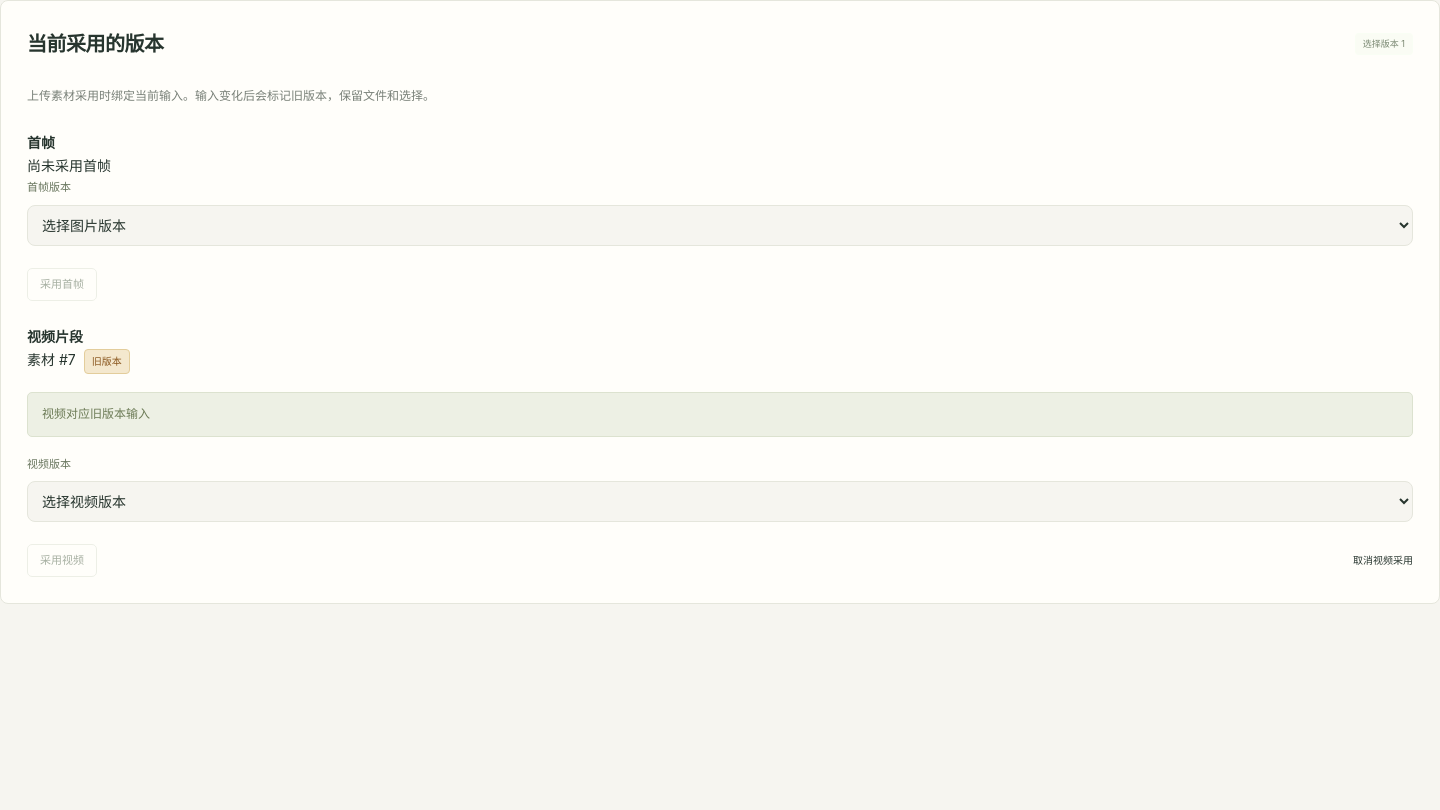
Test: 采用上传首帧须明确确认，旧视频不会被清除
Expected: the text "视频对应旧版本输入" is shown, 27,392 -> 1413,437
Select "原创角色 · 上传 #4" in the dropdown labelled "首帧版本". click: [720, 225]
box: 27,205 -> 1413,246
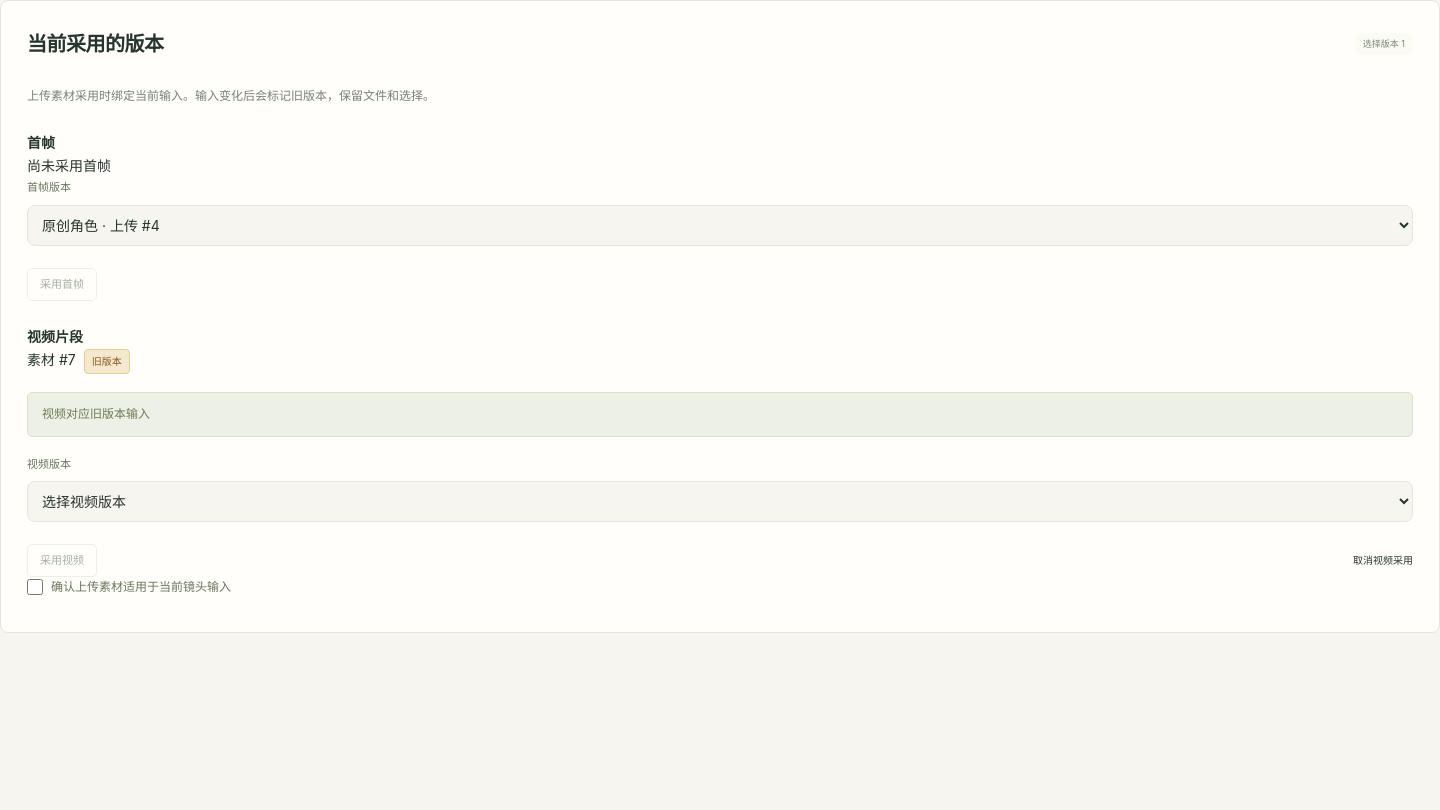
Expected: the button "采用首帧" is disabled, 27,268 -> 97,301
Click the checkbox labelled "确认上传素材适用于当前镜头输入". click: [35, 587]
box: 27,579 -> 43,595
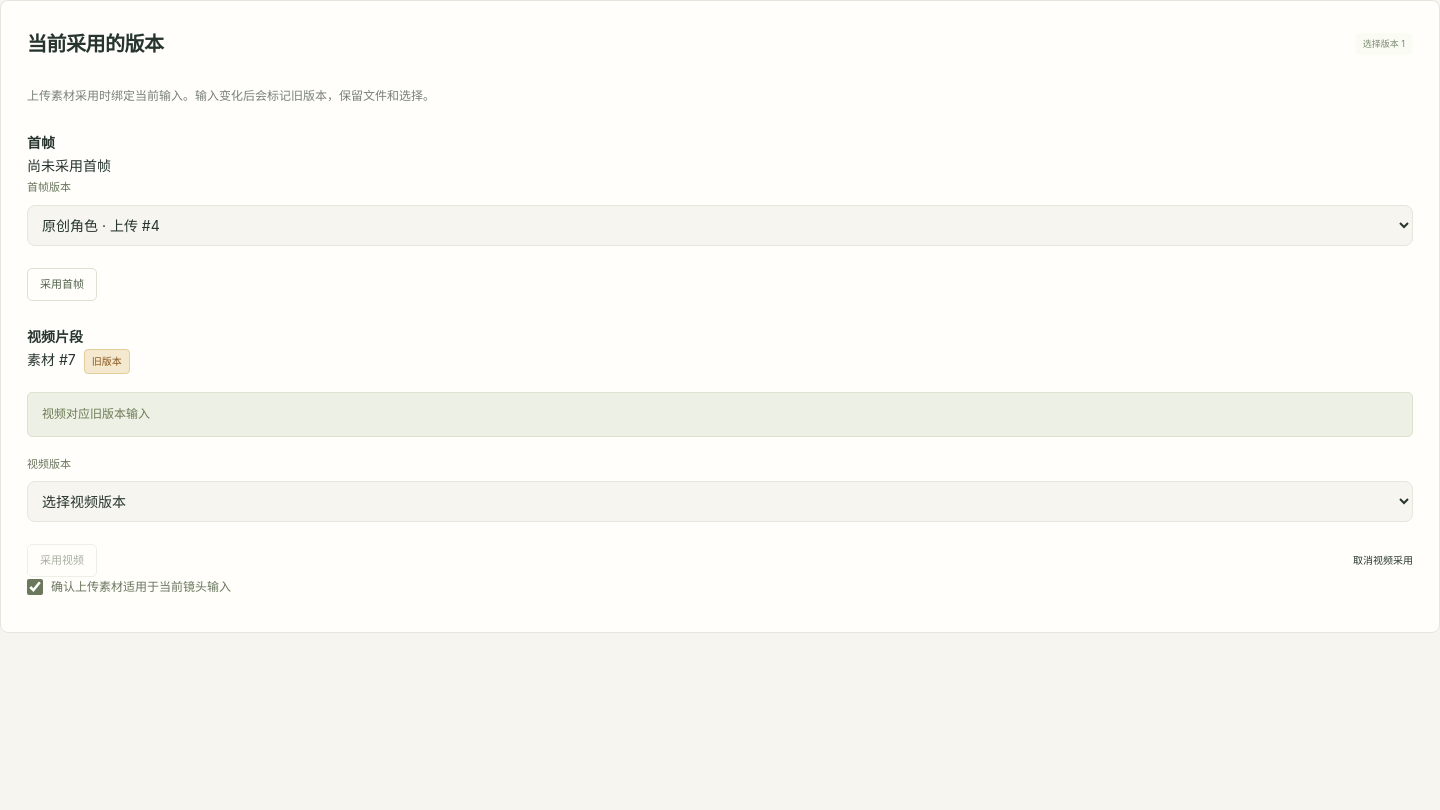
Click the button "采用首帧". click: [62, 284]
box: 27,268 -> 97,301
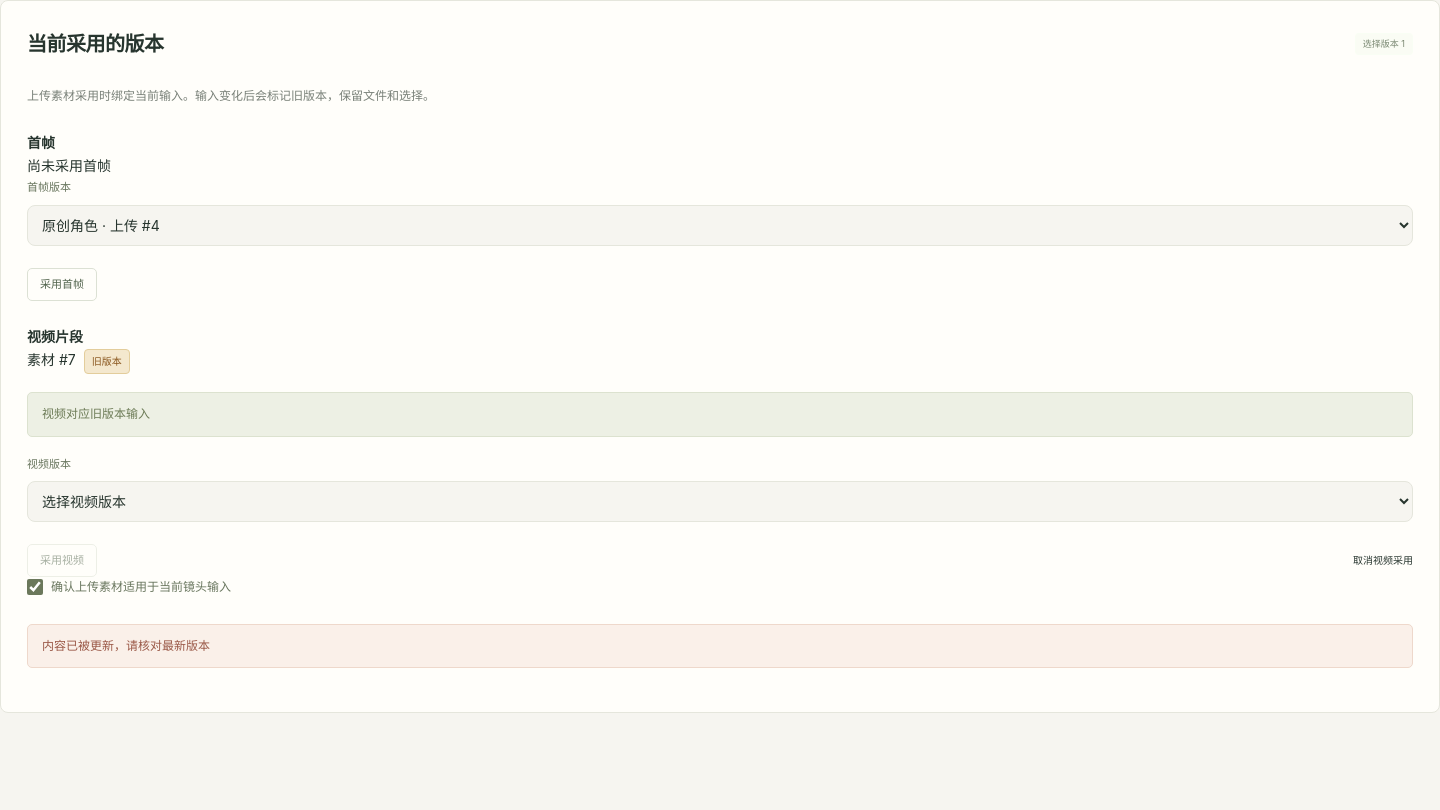
Expected: the message "内容已被更新，请核对最新版本" is shown, 27,624 -> 1413,668
